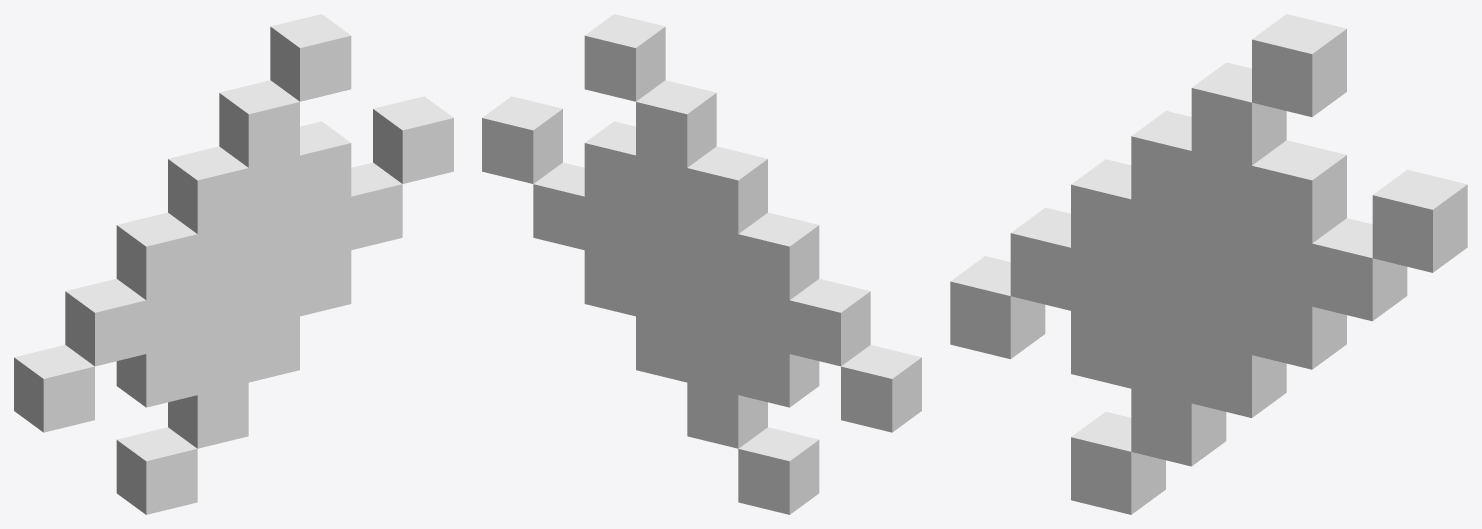
The model's file is Scroll-White.vox.obj.
The picture shows the model from 3 angles, left to right: view 1: azimuth 30°, elevation 25°; view 2: azimuth 150°, elevation 25°; view 3: azimuth 330°, elevation 25°; orthographic projection. The views are drawn at different scales.
Size of the model in its own units: 0.8 by 0.8 by 0.1.
1 material, 1 textured.
